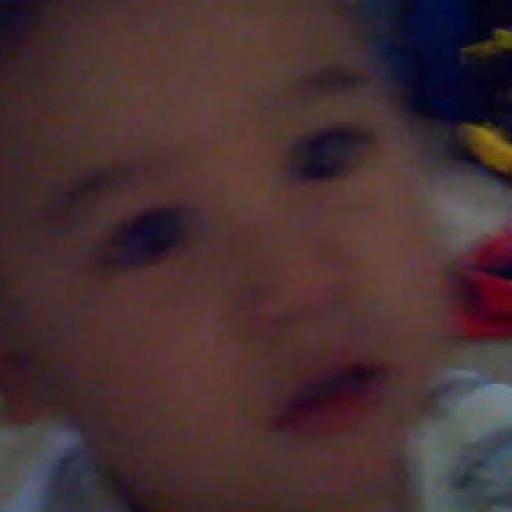Autism: (42, 0, 472, 512)
